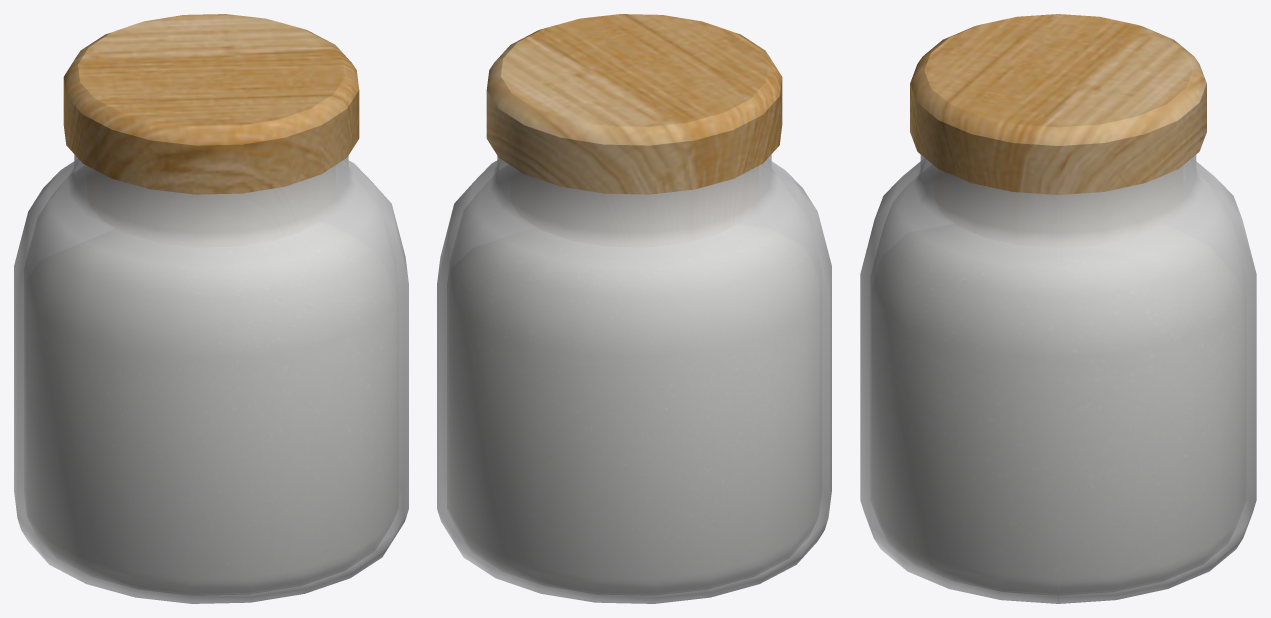
The model's file is sweethome3d-scopia-glass-jar-480.glb.
3 renders of one model, left to right at view 1: azimuth 30°, elevation 25°; view 2: azimuth 150°, elevation 25°; view 3: azimuth 270°, elevation 25°, orthographic.
Parts seen in each view (by area): view 1: GlassJar2.003, WoodenTop.003; view 2: GlassJar2.003, WoodenTop.003; view 3: GlassJar2.003, WoodenTop.003.
Part boxes in pixels (x1=…): GlassJar2.003: x1=14, y1=154, x2=408, y2=603; WoodenTop.003: x1=63, y1=14, x2=359, y2=194; GlassJar2.003: x1=437, y1=154, x2=831, y2=603; WoodenTop.003: x1=486, y1=14, x2=782, y2=194; GlassJar2.003: x1=860, y1=155, x2=1256, y2=603; WoodenTop.003: x1=910, y1=14, x2=1206, y2=194.
Size of the model in its own units: 9.89 by 12.79 by 9.89.
3 materials, 2 textured.
